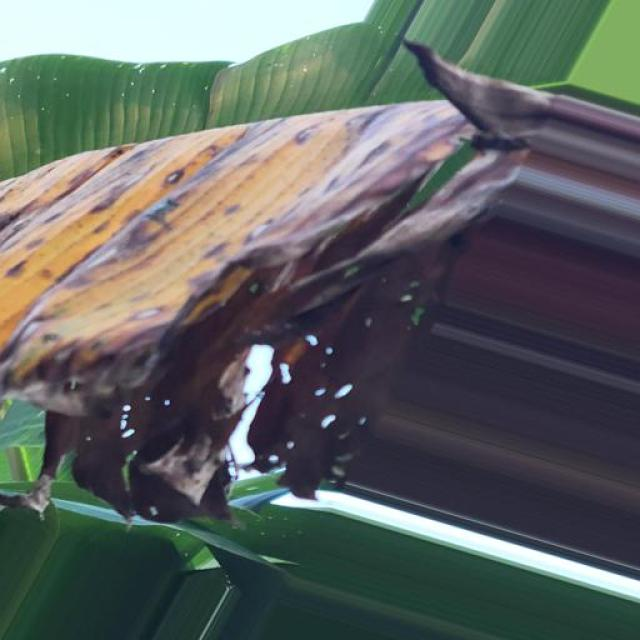Cordana: (0, 83, 513, 543)
